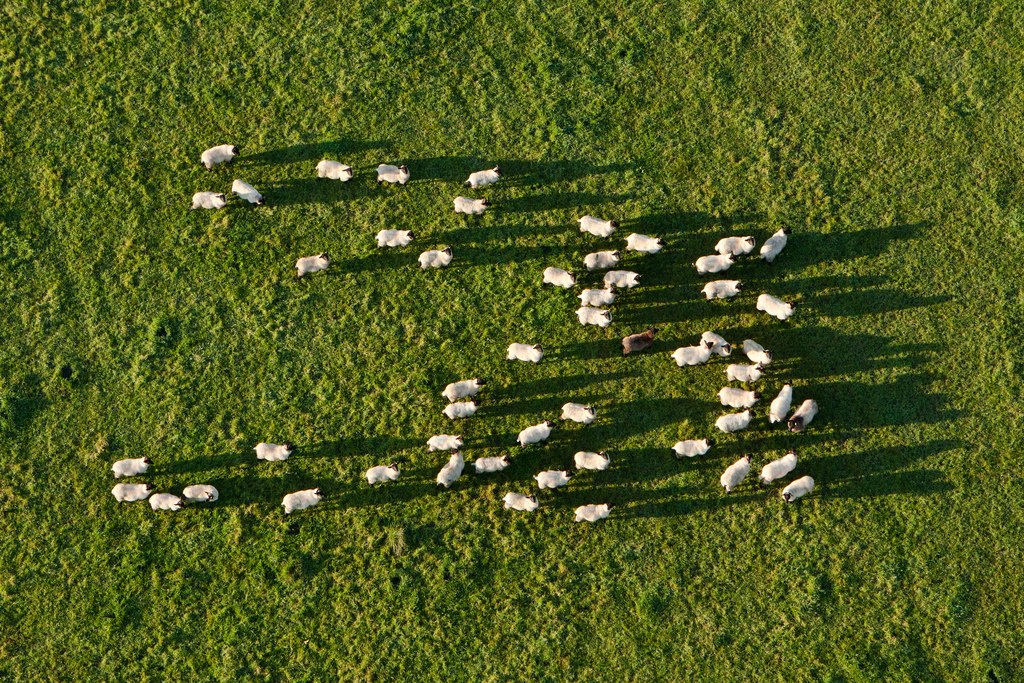sheep: (712, 451, 755, 493), (757, 223, 797, 266), (432, 454, 473, 495), (527, 460, 572, 497), (717, 357, 773, 386), (496, 490, 547, 521), (760, 449, 801, 487), (572, 449, 619, 482), (437, 398, 492, 426), (754, 290, 798, 325), (737, 341, 780, 376), (282, 483, 326, 516), (758, 387, 797, 424), (516, 420, 557, 455), (707, 407, 757, 435), (617, 328, 662, 357), (572, 212, 617, 241), (782, 468, 813, 510), (441, 374, 487, 402), (787, 397, 819, 437), (670, 436, 720, 461), (694, 252, 744, 277), (200, 141, 250, 166), (666, 344, 720, 367), (627, 229, 671, 257), (142, 486, 183, 516), (572, 502, 619, 528), (699, 277, 744, 304), (249, 439, 294, 465), (370, 227, 418, 251), (229, 177, 267, 207), (107, 455, 150, 481), (470, 455, 518, 478), (718, 386, 762, 411), (711, 232, 755, 257), (361, 462, 403, 488), (557, 399, 599, 425), (695, 335, 737, 361), (378, 160, 412, 192), (585, 247, 621, 276), (603, 268, 644, 293), (315, 157, 356, 182), (543, 261, 575, 292), (179, 484, 222, 507), (416, 249, 459, 272), (104, 482, 158, 500), (297, 251, 332, 277), (580, 287, 622, 308), (507, 340, 545, 363), (459, 167, 502, 187), (576, 306, 615, 328), (451, 196, 494, 214), (192, 190, 227, 211)
